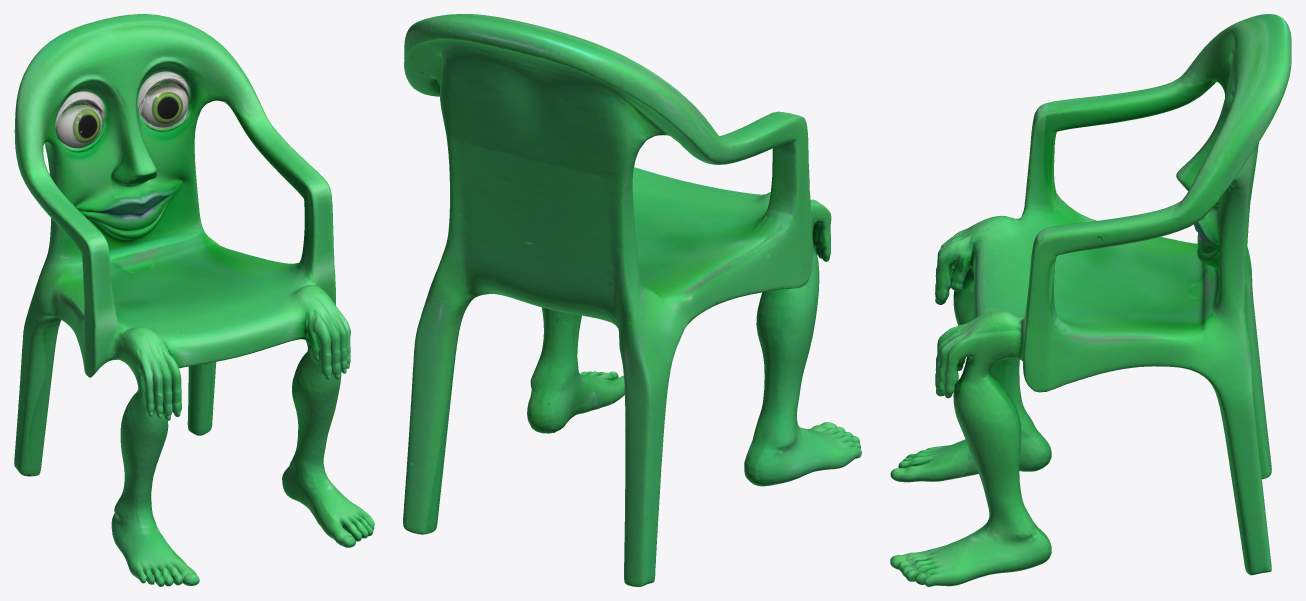
3 renders of one model, left to right at view 1: azimuth 30°, elevation 25°; view 2: azimuth 150°, elevation 25°; view 3: azimuth 270°, elevation 25°, orthographic. The views are drawn at different scales.
Size of the model in its own units: 1.14 by 1.9 by 1.42.
Materials: 1 (1 with a texture image).
